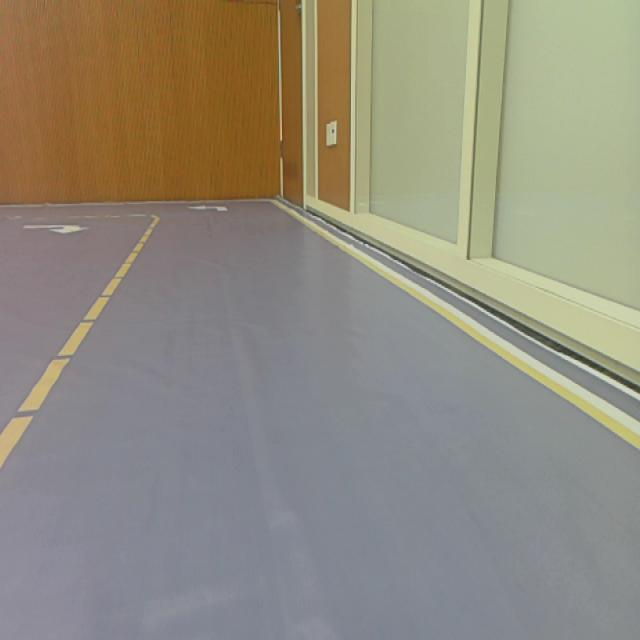left_lane: (0, 219, 159, 467)
right_lane: (272, 200, 640, 451)
